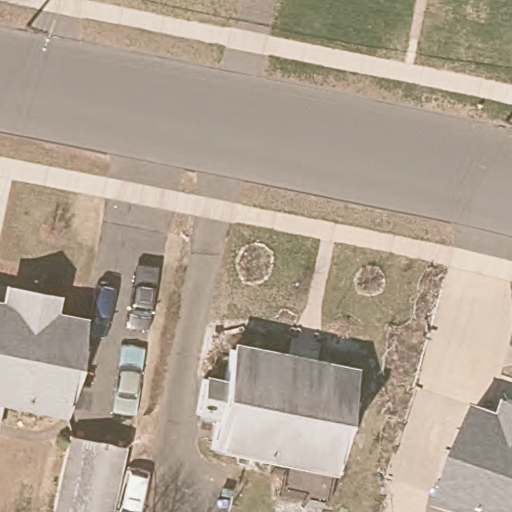DT: (24, 16, 58, 52)
